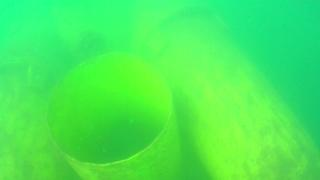pipe: (125, 12, 320, 180), (44, 49, 185, 180), (1, 27, 78, 180)
